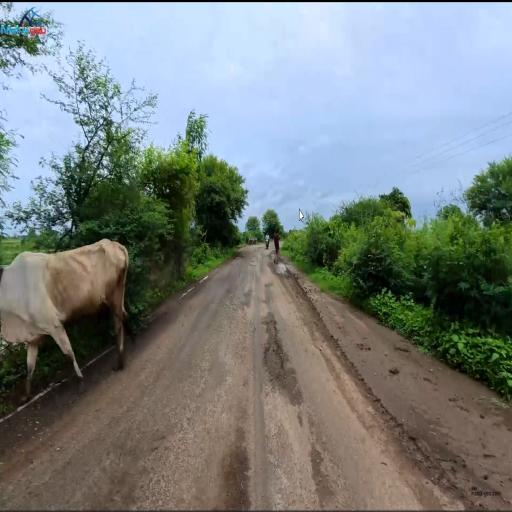pothole: (263, 312, 290, 393)
